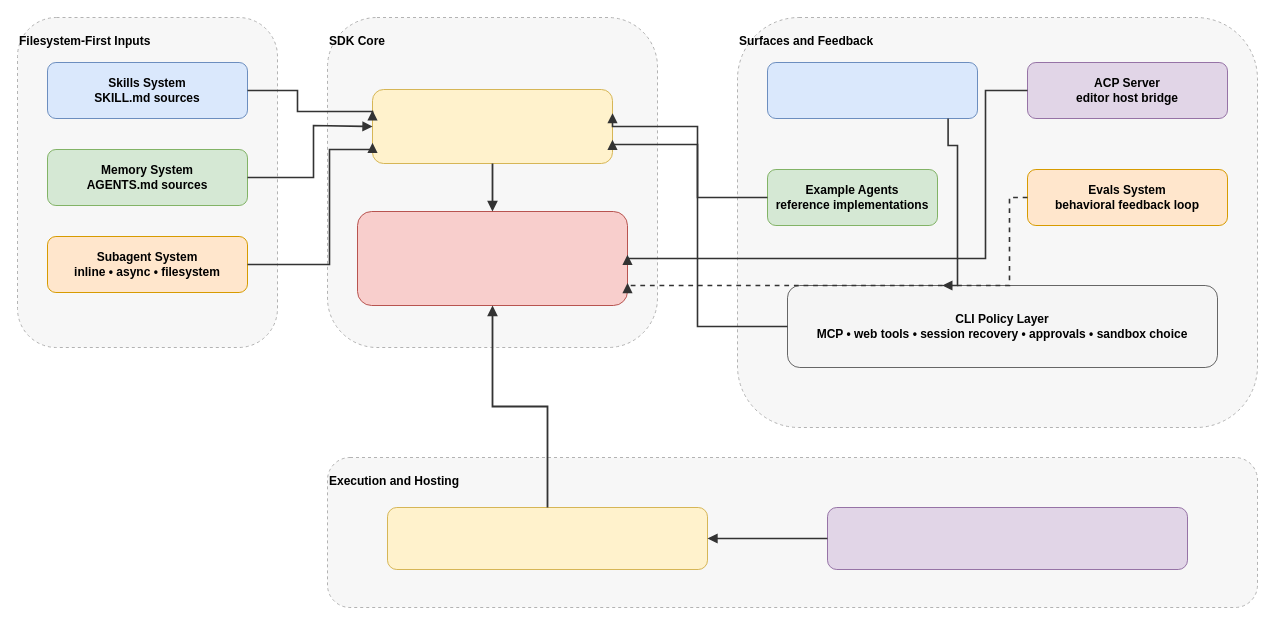
Image size: 1275x625. Some labels were removed from this diagram. The shapes that lost their labels are listed below. From the top down, each one's centre as x and y in pixels, then its label:
the point at 872,90: CLI Runtime + Textual UI
the point at 492,126: Graph Factory create_deep_agent
the point at 492,258: Compiled LangGraph Agent planning • file ops • patching summarization
the point at 547,538: Backend System state • filesystem • local shell • composite
the point at 1007,538: Sandbox Partners Daytona • Modal • Runloop • QuickJS
